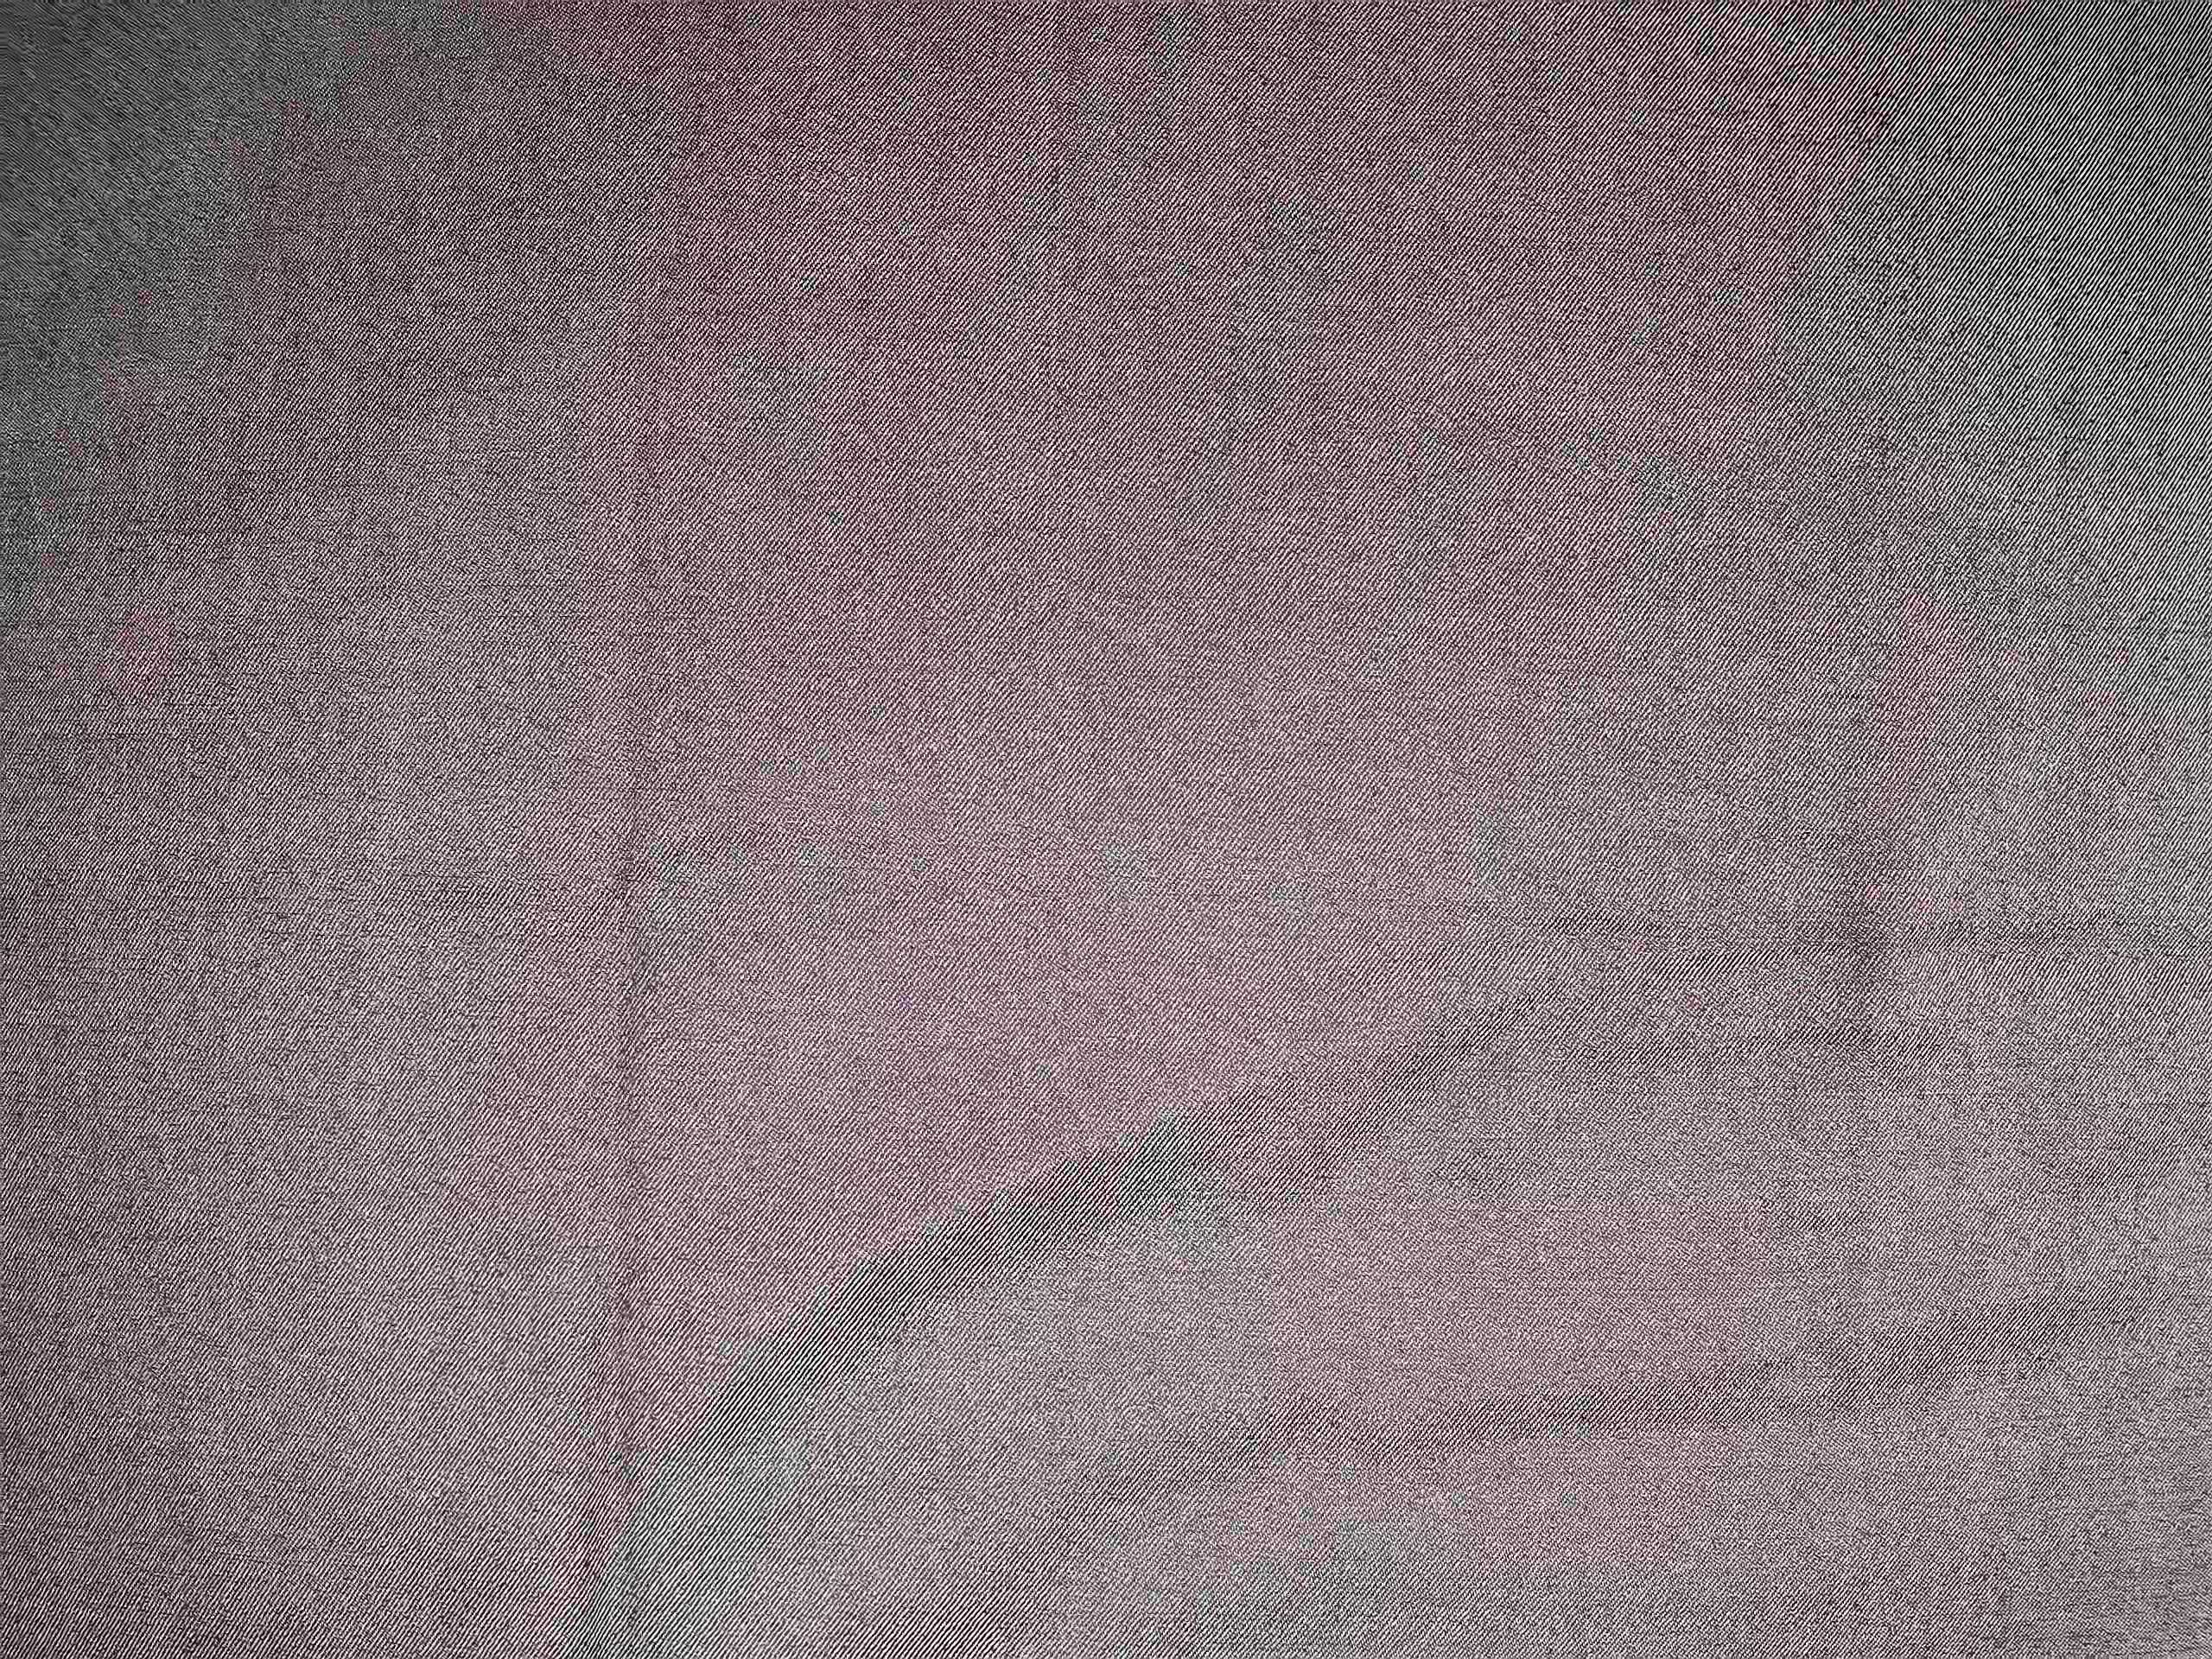hanging-warp: (1026, 3, 1089, 842)
